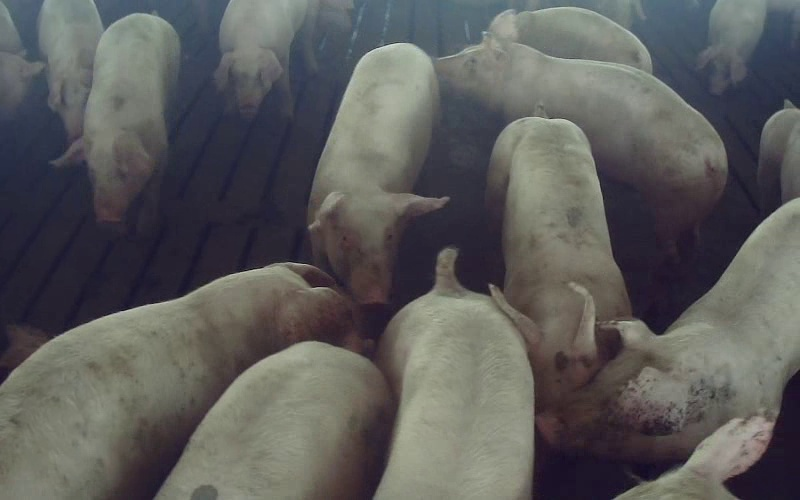pig: (0, 264, 351, 499), (537, 199, 799, 460), (435, 12, 727, 245), (486, 117, 631, 408), (375, 248, 533, 499), (156, 342, 392, 499), (308, 44, 446, 304), (55, 13, 179, 233), (214, 0, 318, 117), (38, 0, 103, 142)
